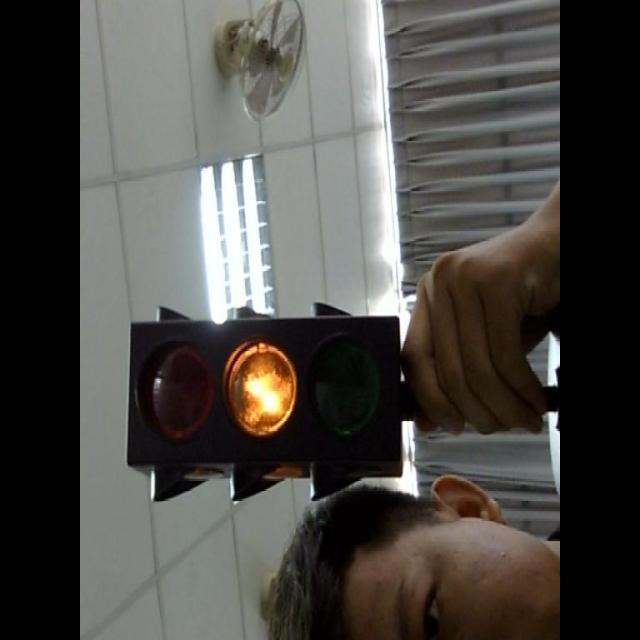yellow_light: (126, 314, 399, 463)
